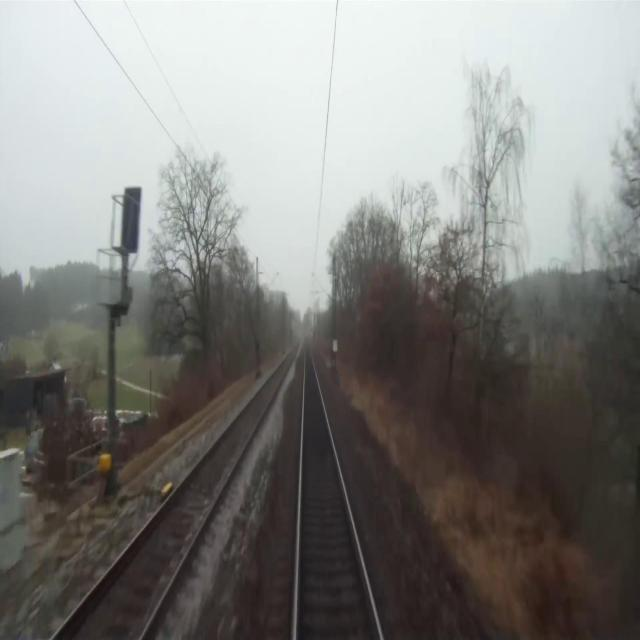rail-track: (56, 343, 298, 639), (298, 347, 380, 639)
